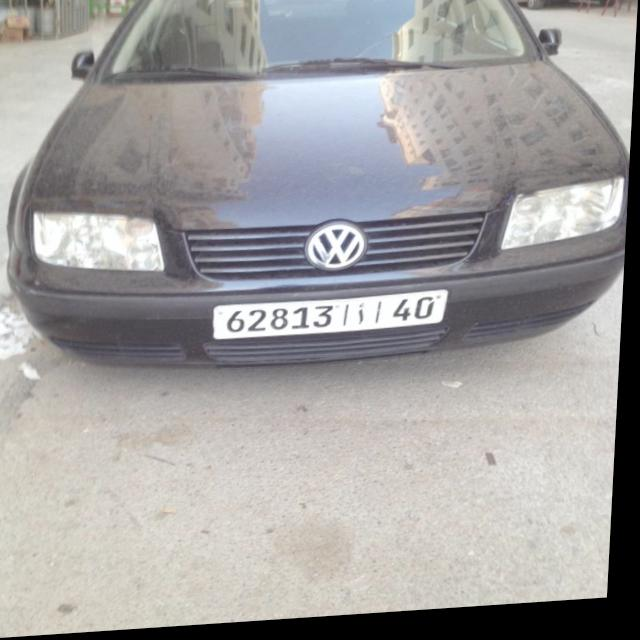License-Plate: (217, 296, 452, 343)
